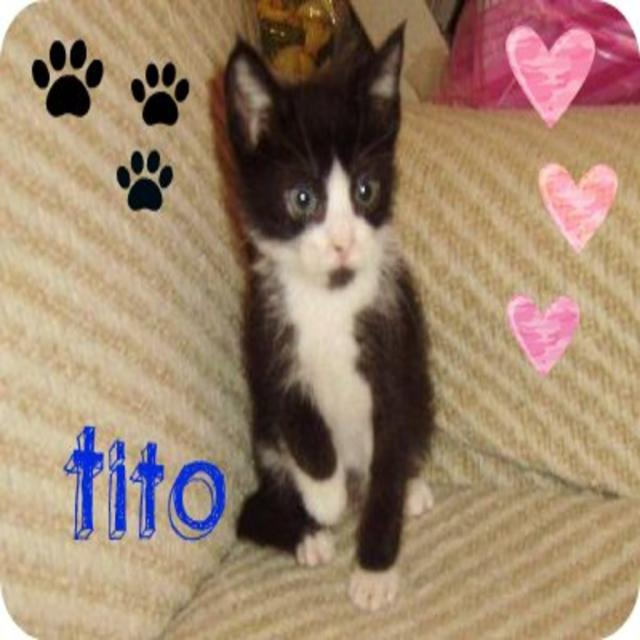Cat: (223, 16, 435, 612)
